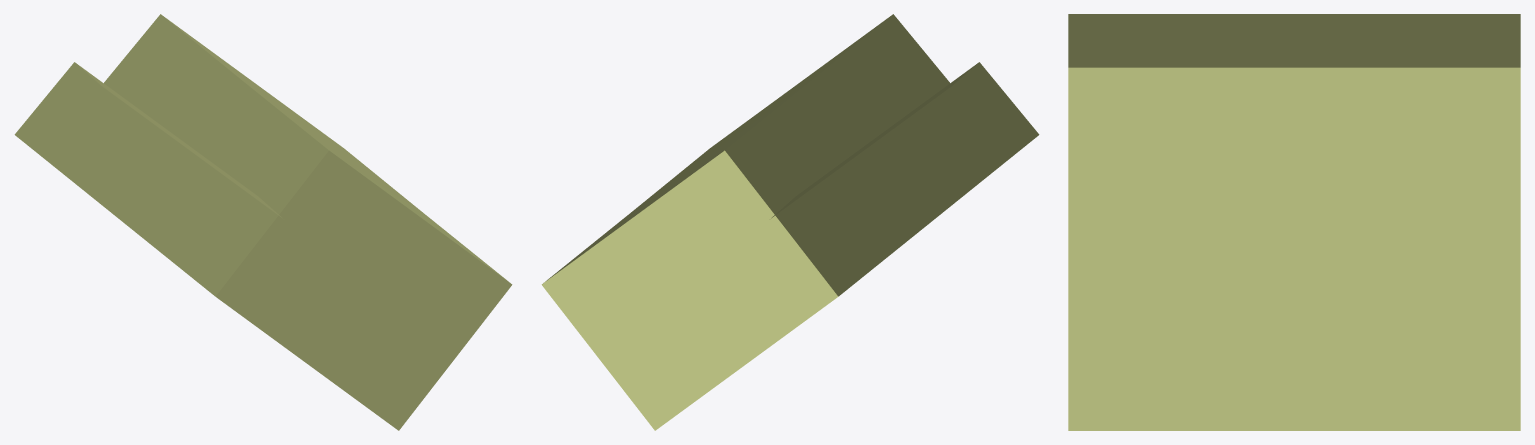
3 views of the same model, side by side, from view 1: azimuth 30°, elevation 25°; view 2: azimuth 150°, elevation 25°; view 3: azimuth 270°, elevation 25° (orthographic). The views are drawn at different scales.
Visible parts, largest first — view 1: 0_1_2_0_1_3_0_2_1_2_2; view 2: 0_1_2_0_1_3_0_2_1_2_2; view 3: 0_1_2_0_1_3_0_2_1_2_2.
Part boxes in pixels (left/top/right/bottom): 0_1_2_0_1_3_0_2_1_2_2: left=14, top=14, right=512, bottom=430; 0_1_2_0_1_3_0_2_1_2_2: left=541, top=14, right=1039, bottom=430; 0_1_2_0_1_3_0_2_1_2_2: left=1068, top=14, right=1520, bottom=430.
Bounding box in the file's own units: 5.95 × 5.35 × 6.
